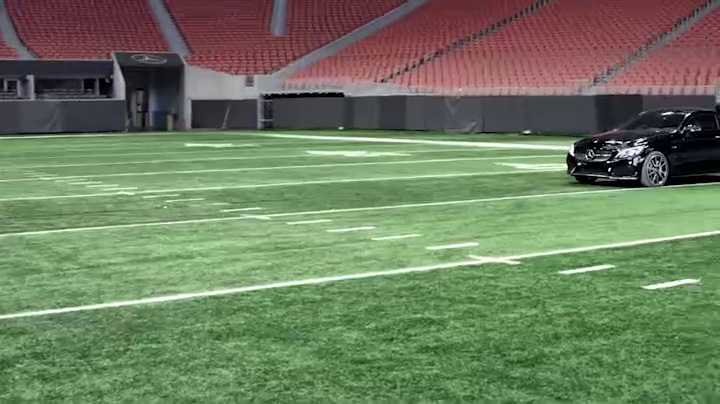amg: (566, 100, 720, 187)
